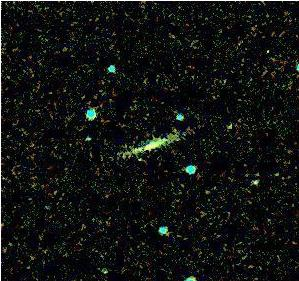star: (256, 37, 286, 67)
